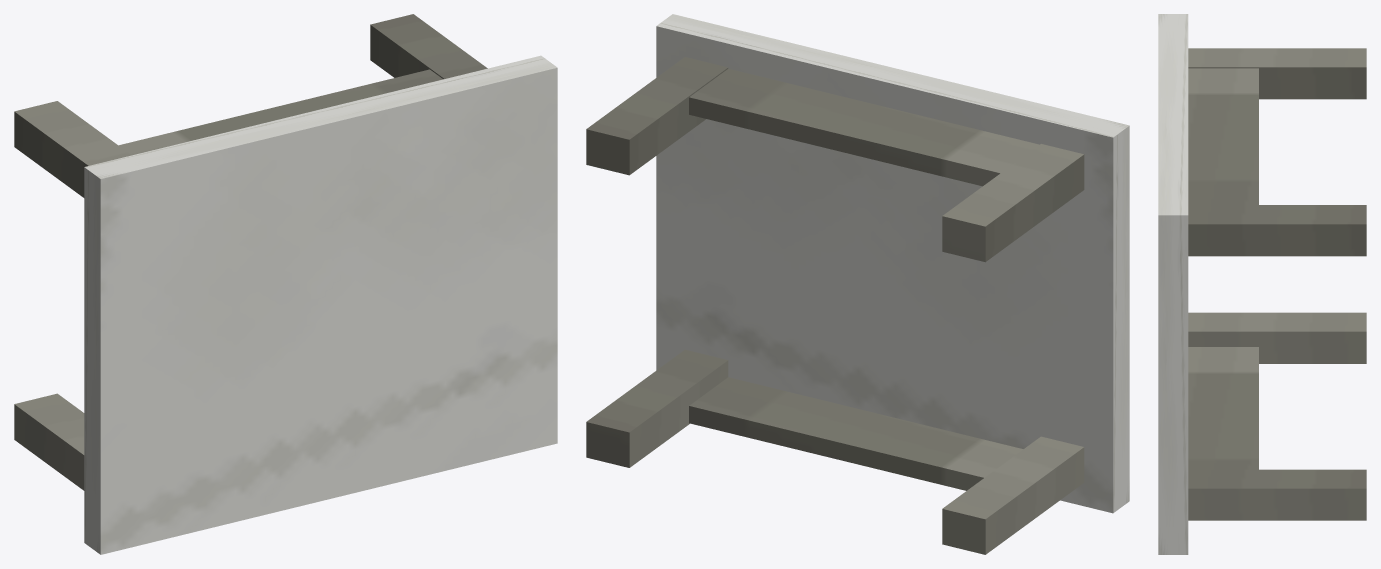
The model's file is pz_table_tables_low_01_white.obj.
3 renders of one model, left to right at view 1: azimuth 30°, elevation 25°; view 2: azimuth 150°, elevation 25°; view 3: azimuth 270°, elevation 25°, orthographic. The views are drawn at different scales.
Bounding box in the file's own units: 0.875 × 0.6875 × 0.3827.
1 material, 1 textured.
